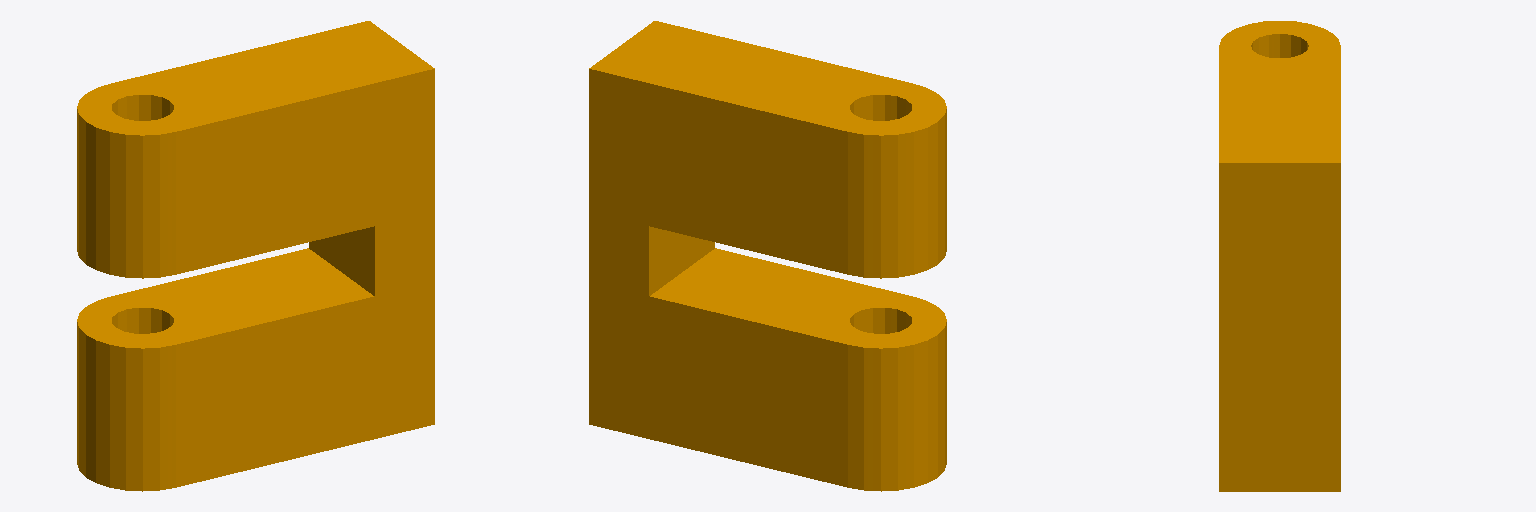
robot.urdf — 00506_socket:
<?xml version="1.0"?>
<robot name="00506_socket">
	<link name="00506_socket">
		<visual>
			<geometry>
				<mesh filename="../mesh/00506/asset_socket.obj"/>
			</geometry>
		</visual>
		<collision>
			<geometry>
				<mesh filename="../mesh/00506/asset_socket.obj"/>
			</geometry>
			<sdf resolution="256"/>
		</collision>
	</link>
</robot>

--- Facts derived from the render (not from the file) ---
Views: 3 orthographic renders of the robot side by side, from view 1: azimuth 30°, elevation 25°; view 2: azimuth 150°, elevation 25°; view 3: azimuth 270°, elevation 25°.
Model 00506_socket with 1 links and 0 joints (none), rooted at 00506_socket, posed every joint at zero.
Visible links, largest first — view 1: 00506_socket; view 2: 00506_socket; view 3: 00506_socket.
Boxes of the visible links, box(x1,y1,x2,y2) form: 00506_socket: box(77, 21, 434, 491); 00506_socket: box(589, 21, 946, 491); 00506_socket: box(1219, 21, 1340, 491).
Bounding box of the posed robot: 0.0445 × 0.016 × 0.0478 m (x, y, z).
Meshes: 1 distinct files referenced, 1 mesh visuals loaded (1 OBJ).